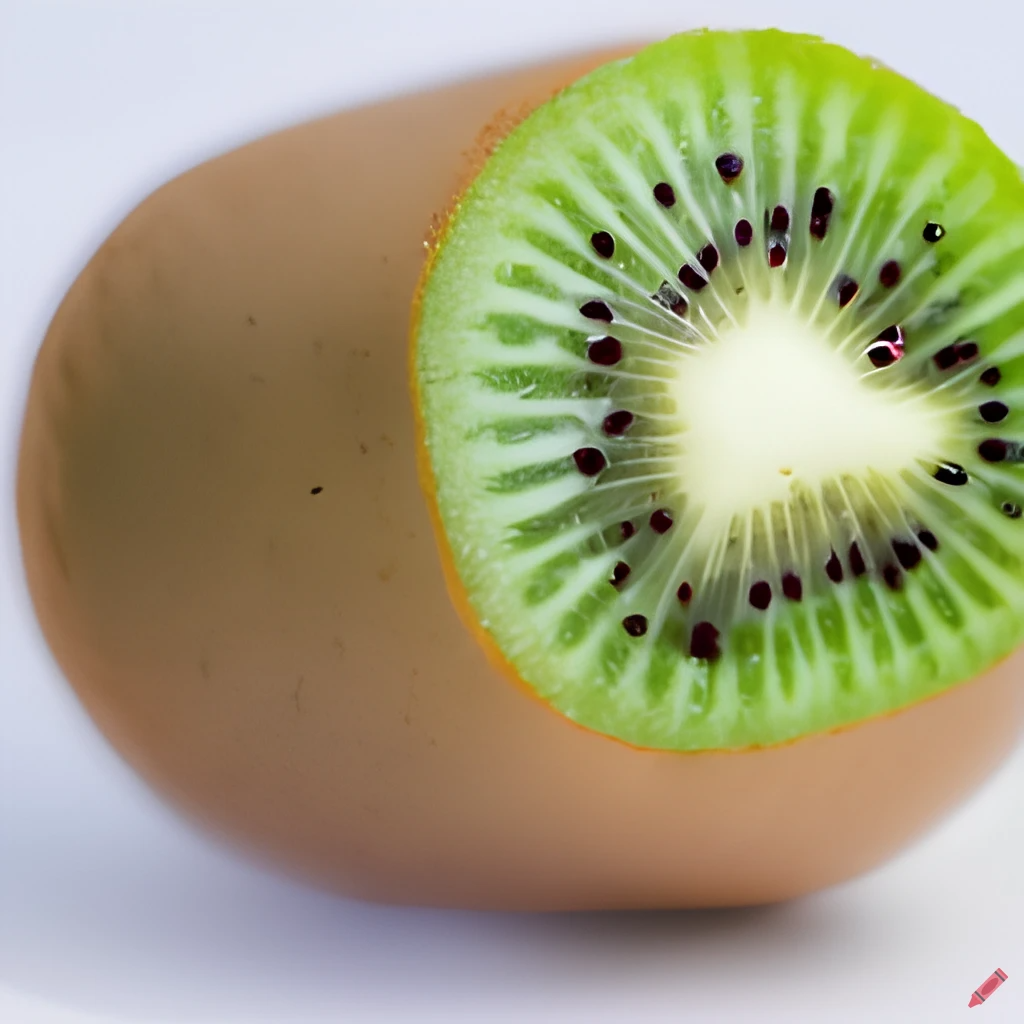Kiwi: (14, 22, 1022, 922)
